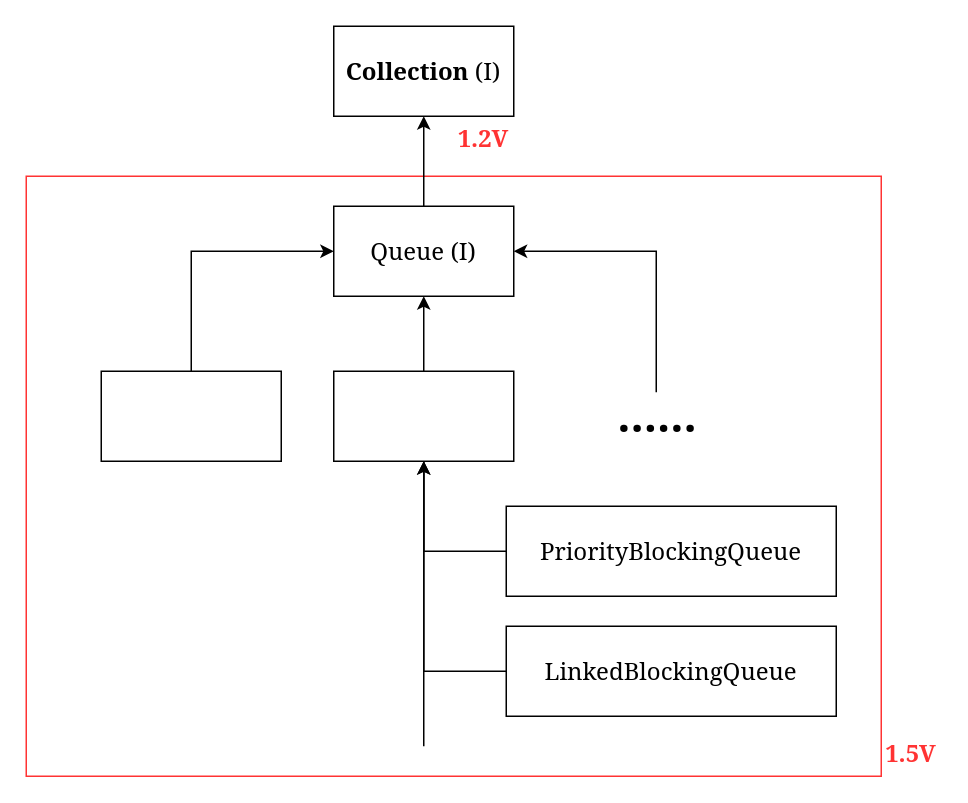
Some shapes in this 968 by 803 pixel diagram are drawn without their labels. Each missing label, with the centre of its shape:
"BlockingQueue" belongs at (x=423, y=415).
"PriorityQueue" belongs at (x=190, y=415).
